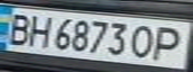3: (106, 19, 133, 56)
6: (51, 16, 75, 51)
7: (87, 18, 112, 55)
8: (69, 17, 93, 53)
B: (0, 10, 36, 46)
H: (24, 12, 54, 48)
O: (127, 21, 160, 60)
P: (148, 24, 190, 62)
